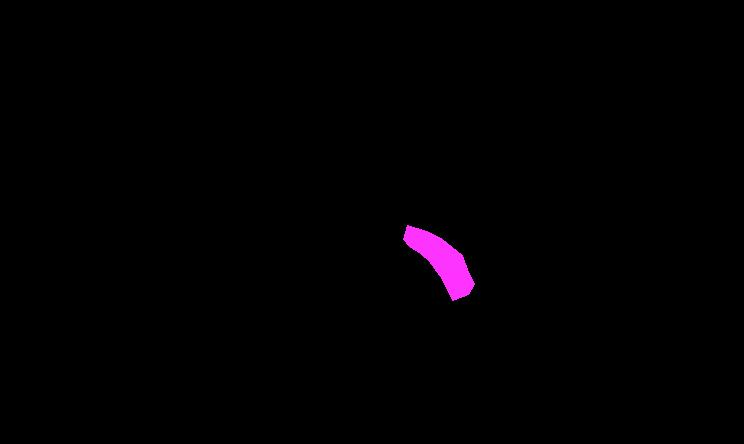Dent: (403, 225, 474, 300)
